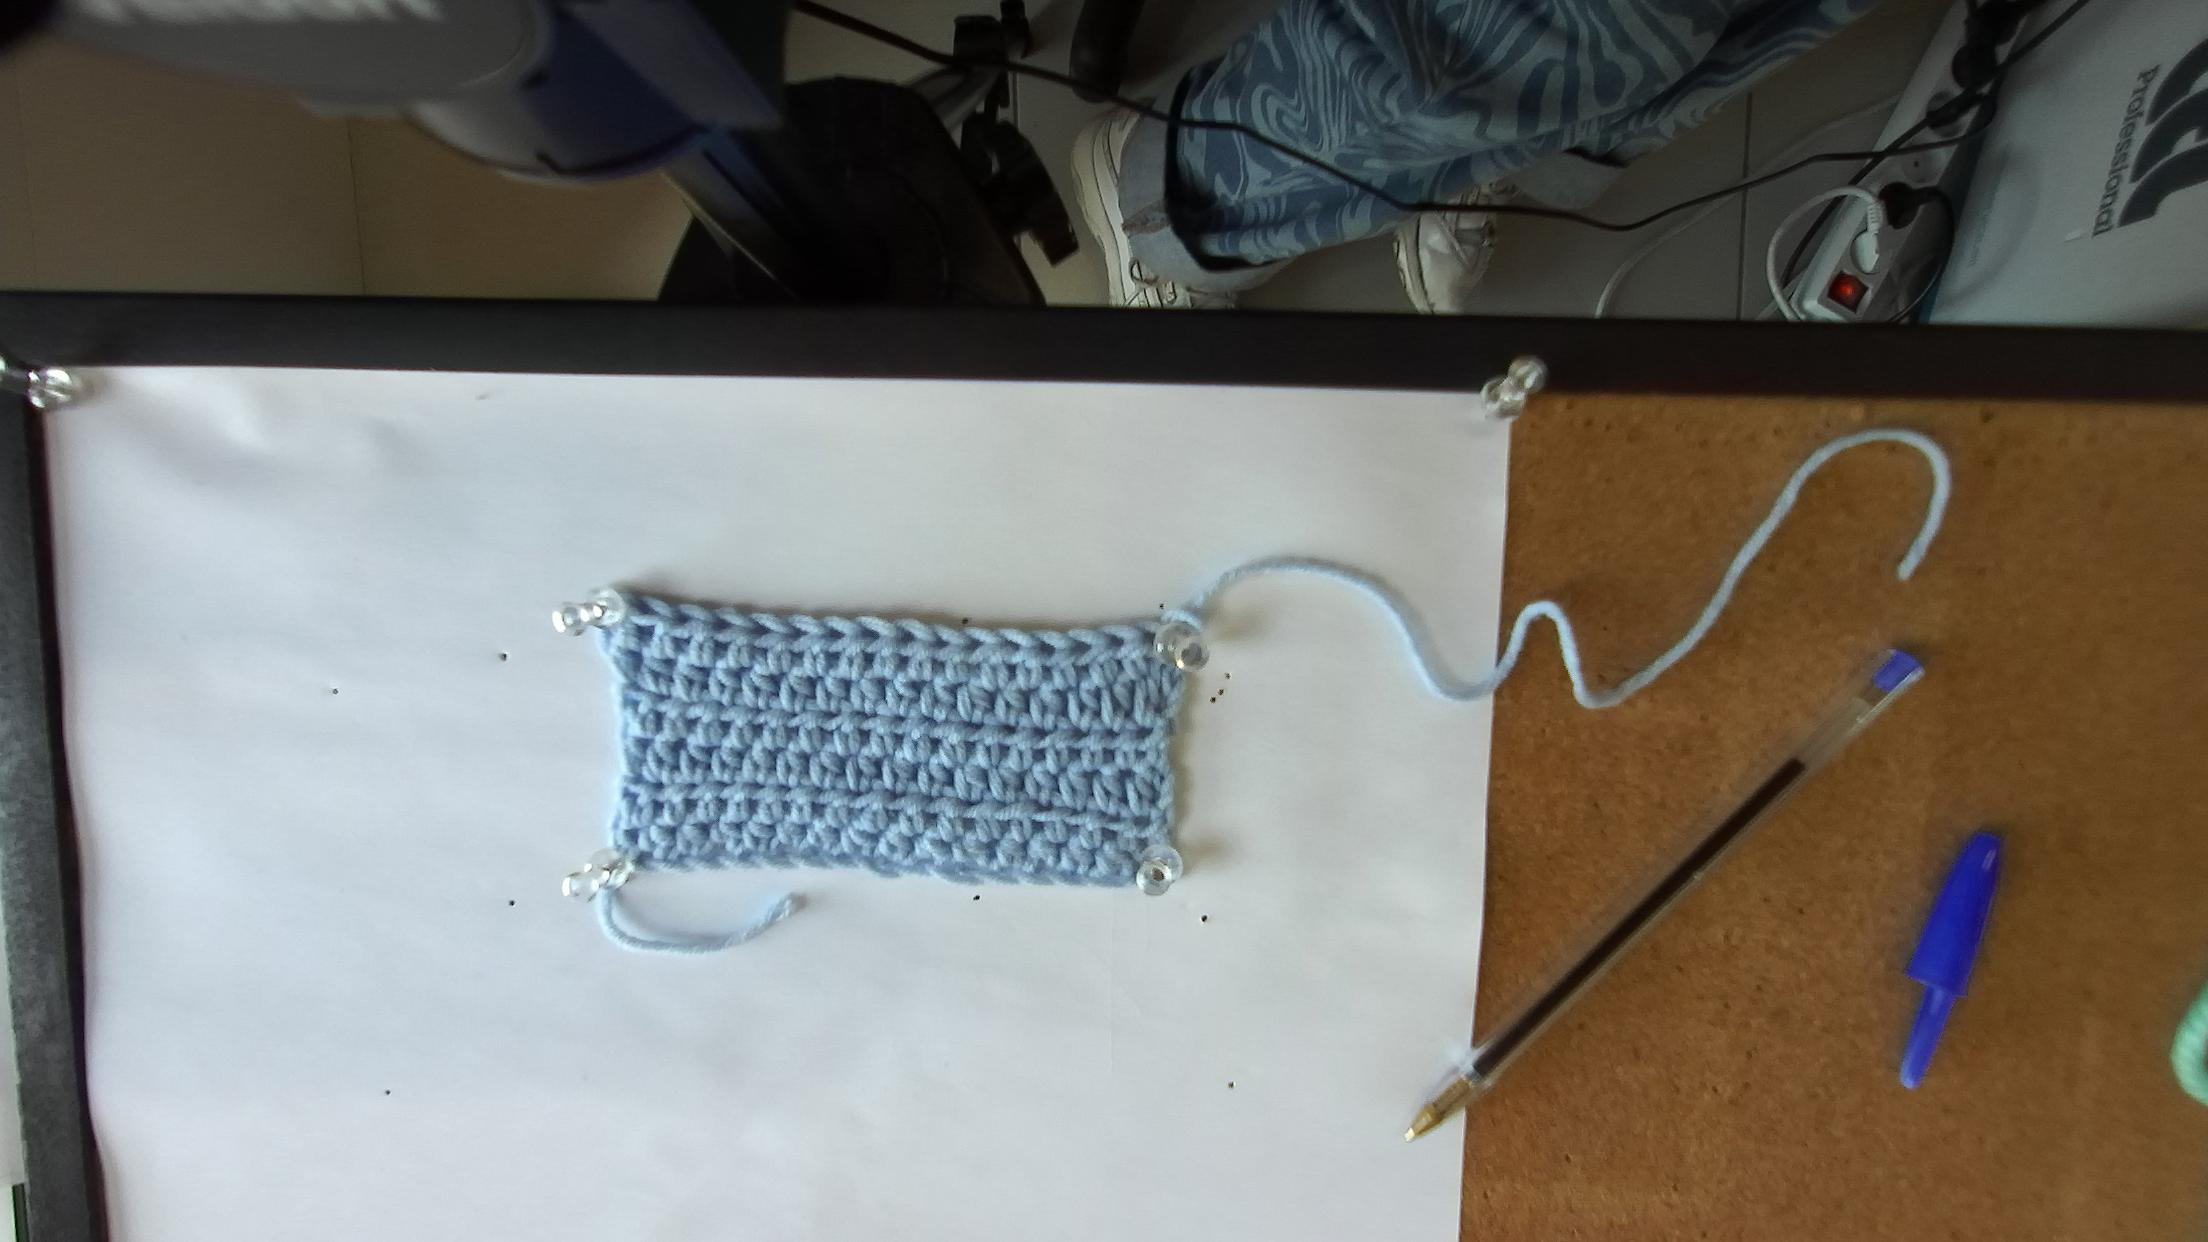hole: (1068, 638, 1093, 658), (631, 601, 660, 615), (785, 626, 809, 641), (750, 622, 773, 637), (929, 633, 949, 650), (1106, 634, 1125, 651), (1140, 629, 1157, 648), (963, 638, 985, 651), (898, 630, 917, 645), (1037, 642, 1054, 657), (713, 618, 734, 630), (1000, 640, 1022, 651), (860, 628, 880, 639), (675, 614, 694, 625), (829, 628, 846, 640)
swatch: (583, 591, 1197, 898)
